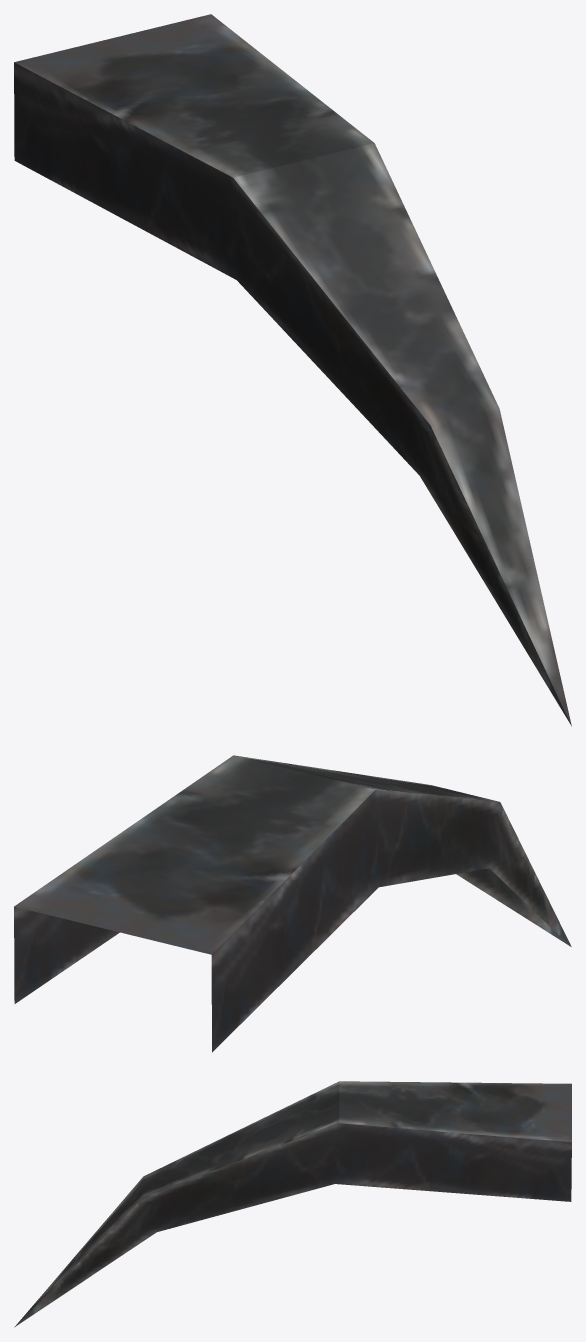
Rendered from A_tiezhui03.fbx.
3 renders of one model, top to bottom at view 1: azimuth 30°, elevation 25°; view 2: azimuth 150°, elevation 25°; view 3: azimuth 270°, elevation 25°, orthographic. The views are drawn at different scales.
Parts seen in each view (by area): view 1: A_tiezhui03; view 2: A_tiezhui03; view 3: A_tiezhui03.
Boxes of the visible parts, <box> form: A_tiezhui03: <box>14,14,571,726</box>; A_tiezhui03: <box>14,755,571,1052</box>; A_tiezhui03: <box>14,1081,571,1327</box>.
Bounding box in the file's own units: 18.78 × 33.71 × 75.66.
